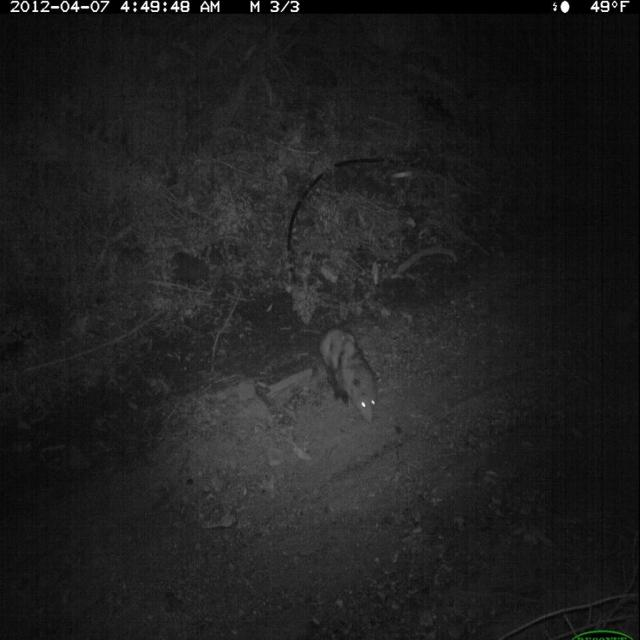opossum: (301, 314, 382, 432)
